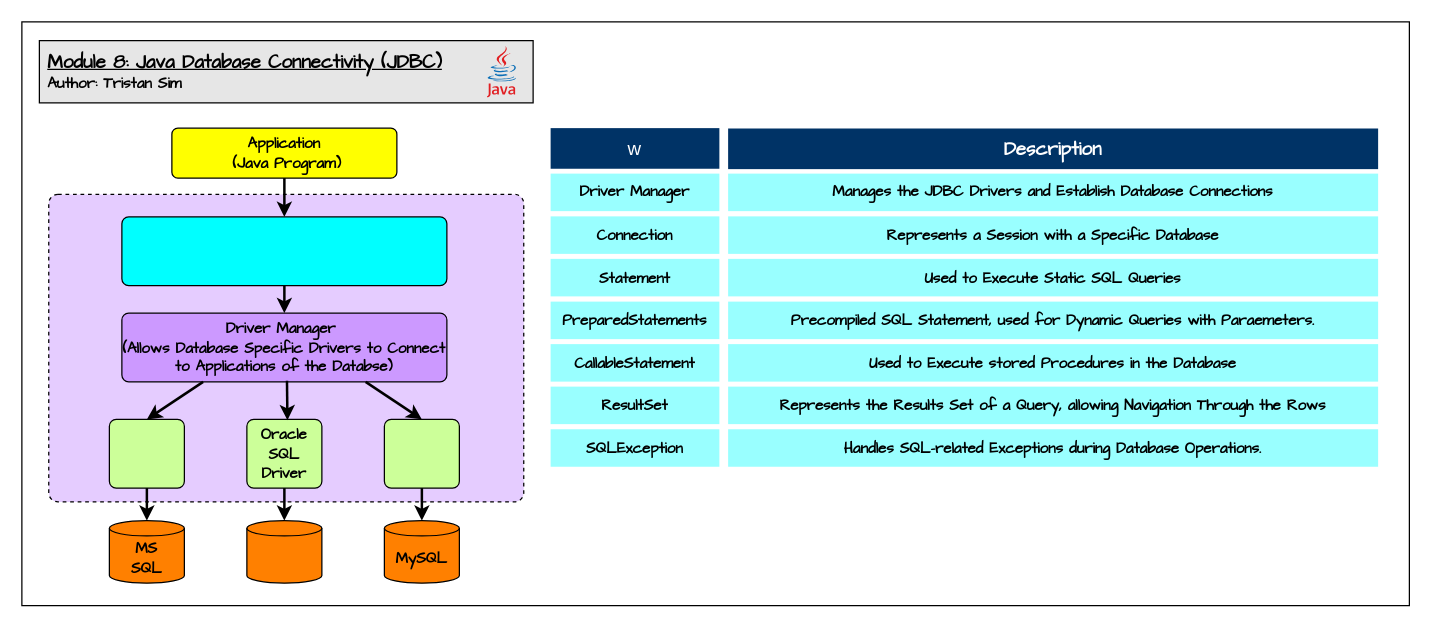
Some shapes in this 1431 by 628 pixel diagram are drawn without their labels. The centre of each missing label's shape, as x and y in pixels:
"JBDC API (Interface that allows Java Programs to Interact with SQL)" belongs at pixel 284 251.
"MS SQL Driver" belongs at pixel 146 453.
"MySQL Driver" belongs at pixel 421 453.
"Oracle SQL" belongs at pixel 284 551.
